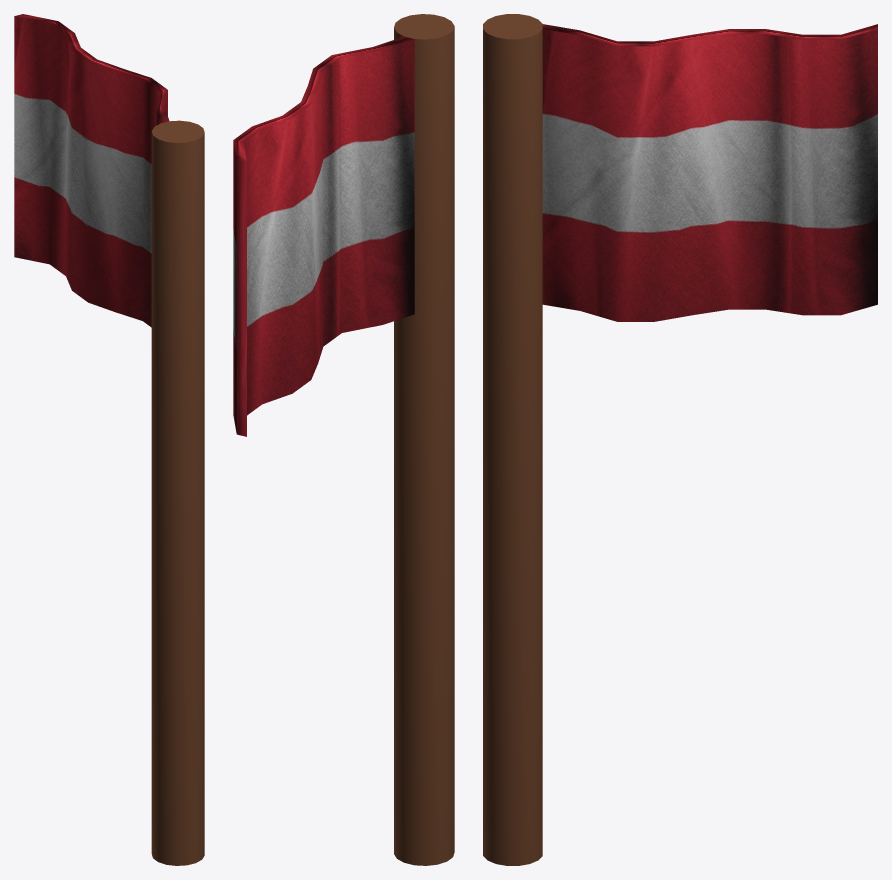
Rendered from Flag.fbx.
3 views of the same model, side by side, from view 1: azimuth 30°, elevation 25°; view 2: azimuth 150°, elevation 25°; view 3: azimuth 270°, elevation 25° (orthographic). The views are drawn at different scales.
Parts seen in each view (by area): view 1: Stand, Flag; view 2: Flag, Stand; view 3: Flag, Stand.
Part boxes in pixels (x1=…): Stand: x1=151, y1=120, x2=204, y2=865; Flag: x1=14, y1=14, x2=169, y2=327; Flag: x1=233, y1=36, x2=414, y2=436; Stand: x1=394, y1=14, x2=454, y2=865; Flag: x1=542, y1=24, x2=877, y2=321; Stand: x1=483, y1=14, x2=542, y2=865.
Size of the model in its own units: 12.58 by 150 by 64.91.
